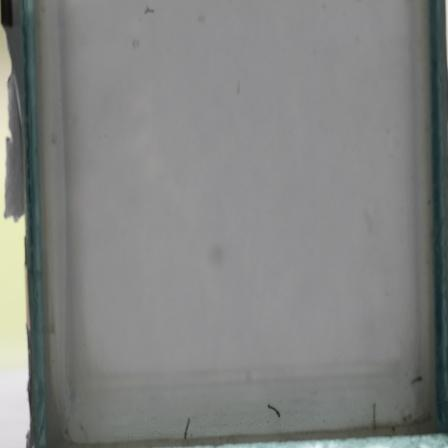Jentik-Nyamuk: (180, 415, 193, 442), (265, 402, 282, 420)
